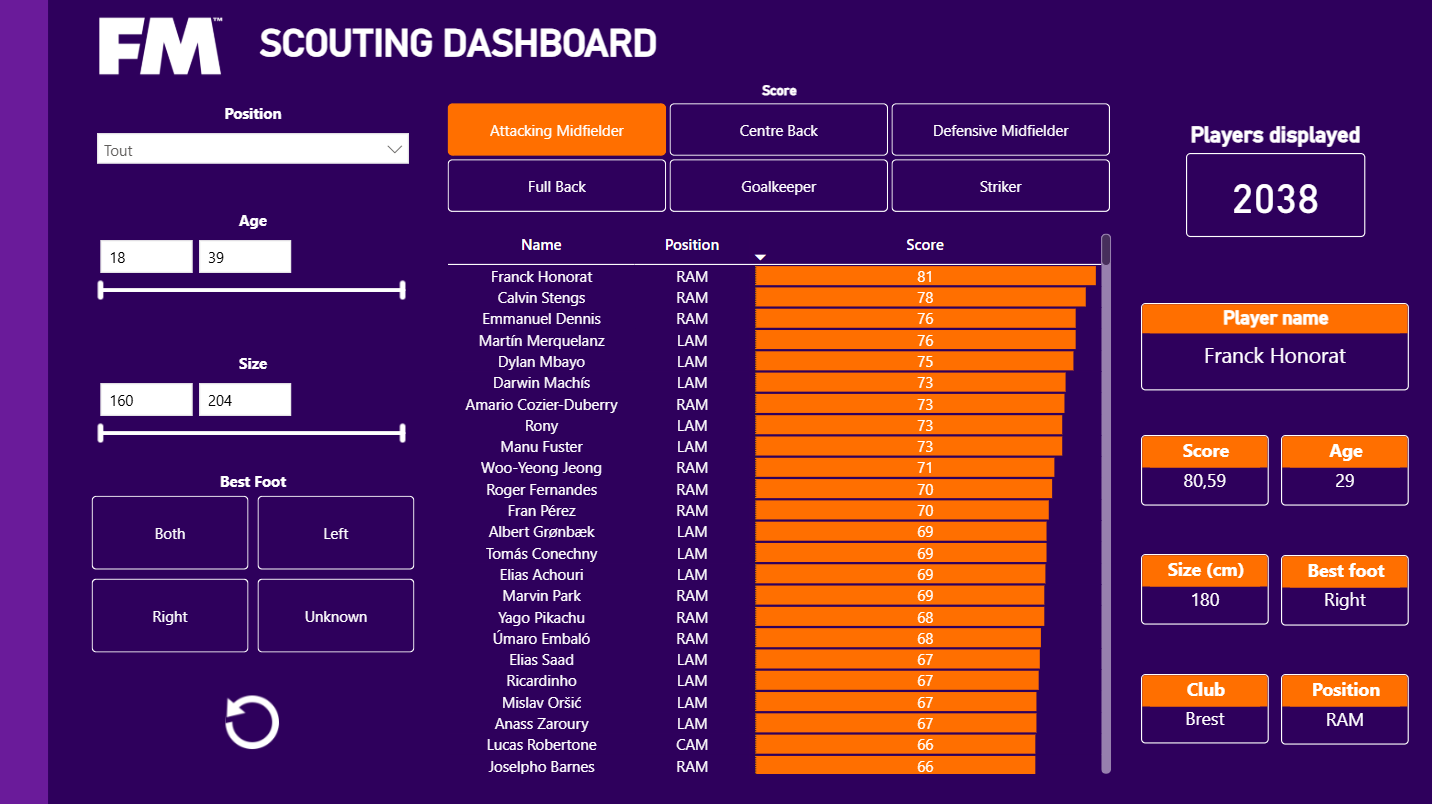

What the dashboard file says about the page in this screenshot:
{"tool":"powerbi","page":{"name":"Dashboard","canvas":[1280,720],"ordinal":0},"visuals":[{"type":"pivotTable","title":"Liste des joueurs","fields":{"Rows":["Details.Nom"],"Values":["Details.M. poste","Measure Table.Score Sélectionné"]},"box":[394.8,205.4,602.1,492.5],"z":0},{"type":"slicer","title":"Age","fields":{"Values":["Details.Âge1"]},"box":[76.8,188.8,298.1,117.6],"z":1000},{"type":"slicer","title":"Position","fields":{"Values":["Details.M. poste1"]},"box":[76.8,93.7,298.1,84.7],"z":2000},{"type":"slicer","title":"Size","fields":{"Values":["Details.Taille1"]},"box":[76.8,316.9,298.1,94.7],"z":3000},{"type":"advancedSlicerVisual","title":"Score","fields":{"Values":["Table_scores.Colonne 1"]},"box":[394.8,75.8,602.1,120.6],"z":4000},{"type":"advancedSlicerVisual","title":"Best Foot","fields":{"Values":["Details.Pied1"]},"box":[77,422,298,167],"z":5000},{"type":"card","title":"Score","fields":{"Values":["Details.Score Sélectionné"]},"box":[1018,390,114,63],"z":7000},{"type":"card","title":"Age","fields":{"Values":["Details.Âge"]},"box":[1143,390,114,63],"z":8000},{"type":"card","title":"Player name","fields":{"Values":["Details.Nom"]},"box":[1018,272,239,78],"z":9000},{"type":"card","title":"Size (cm)","fields":{"Values":["Details.Taille"]},"box":[1018,496.3,114,63.3],"z":10000},{"type":"card","title":"Club","fields":{"Values":["Details.Club"]},"box":[1018,603,114,62],"z":11000},{"type":"card","title":"Best foot","fields":{"Values":["Details.Pied"]},"box":[1143.3,496.7,114,62.7],"z":12000},{"type":"card","title":"Position","fields":{"Values":["Details.M. poste"]},"box":[1143,603,114,63],"z":13000},{"type":"textbox","box":[226.3,16,501.4,52.8],"z":14000},{"type":"textbox","box":[1051,105,174,43],"z":15000,"group":"g1"},{"type":"image","box":[76.8,11,132.6,63.8],"z":16000},{"type":"actionButton","box":[197.4,618.1,57.8,55.8],"z":17000},{"type":"shape","box":[0,0,42.9,719.8],"z":18000},{"type":"card","title":"Total","fields":{"Values":["Measure Table.Nb de joueurs sélectionnés"]},"box":[1057.7,137.7,159.5,74.8],"z":18500,"group":"g1"},{"type":"group","id":"g1","title":"Players nb","box":[1051,105,174,107.4],"z":18501}]}

Visuals, with their boxes in screenshot pixels (x1, y1, x2, y2), scaled from the page's 1280x720 canvas onto the 1432x804 screenshot:
"Liste des joueurs" pivotTable: l=442, t=229, r=1115, b=779
"Age" slicer: l=86, t=211, r=419, b=342
"Position" slicer: l=86, t=105, r=419, b=199
"Size" slicer: l=86, t=354, r=419, b=460
"Score" advancedSlicerVisual: l=442, t=85, r=1115, b=219
"Best Foot" advancedSlicerVisual: l=86, t=471, r=420, b=658
"Score" card: l=1139, t=436, r=1266, b=506
"Age" card: l=1279, t=436, r=1406, b=506
"Player name" card: l=1139, t=304, r=1406, b=391
"Size (cm)" card: l=1139, t=554, r=1266, b=625
"Club" card: l=1139, t=673, r=1266, b=743
"Best foot" card: l=1279, t=555, r=1407, b=625
"Position" card: l=1279, t=673, r=1406, b=744
textbox: l=253, t=18, r=814, b=77
textbox: l=1176, t=117, r=1370, b=165
image: l=86, t=12, r=234, b=84
actionButton: l=221, t=690, r=286, b=753
shape: l=0, t=0, r=48, b=803
"Total" card: l=1183, t=154, r=1362, b=237
"Players nb" group: l=1176, t=117, r=1370, b=237
